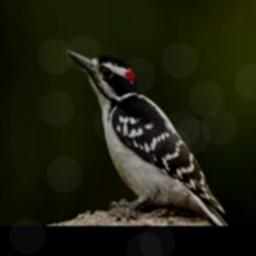Woodpecker: (66, 48, 229, 226)
